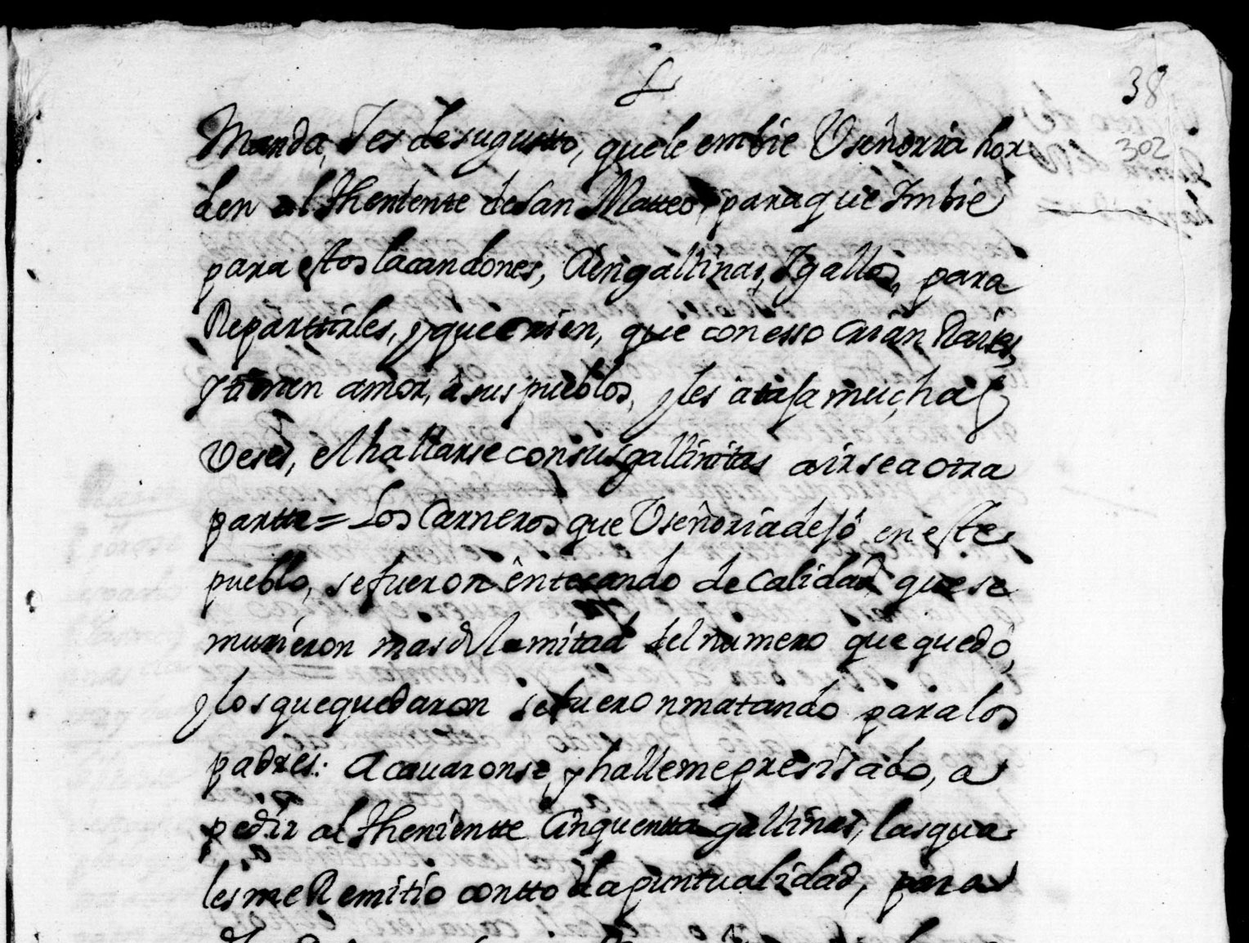lacandon: (371, 226, 543, 281)
